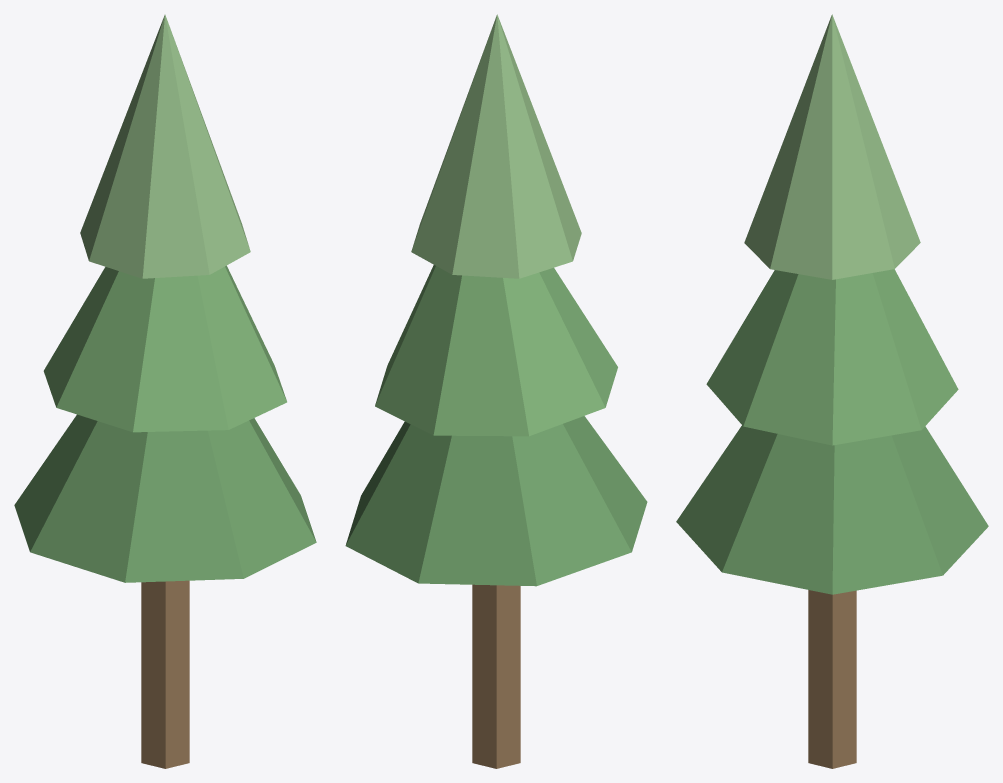
The model's file is animprop_pine_02.glb.
The picture shows the model from 3 angles, left to right: view 1: azimuth 30°, elevation 25°; view 2: azimuth 150°, elevation 25°; view 3: azimuth 270°, elevation 25°; orthographic projection.
Parts seen in each view (by area): view 1: animprop; view 2: animprop; view 3: animprop.
Part boxes in pixels (x1,y1,x2,y2): animprop: (14,14,316,768); animprop: (345,14,647,768); animprop: (676,14,988,768).
Size of the model in its own units: 1.24 by 3.25 by 1.24.
